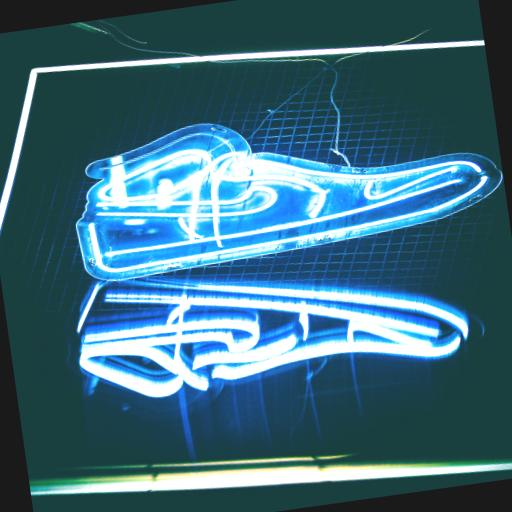shoe: (76, 124, 501, 280), (77, 277, 468, 397)
